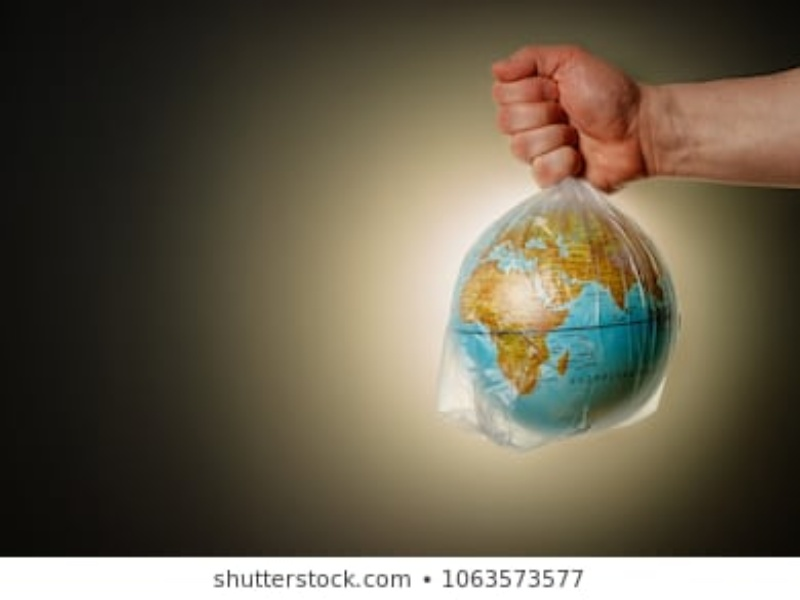plastic-plate: (436, 171, 670, 446)
